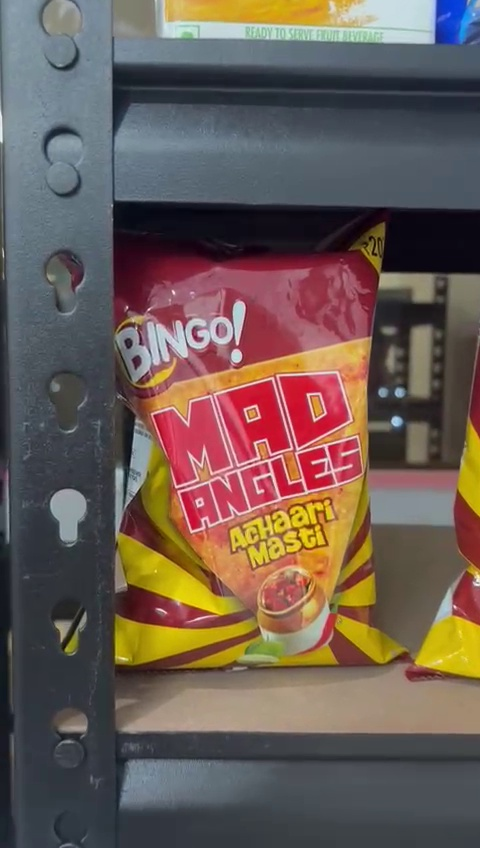Bingo Mad Angles: (111, 236, 378, 665)
